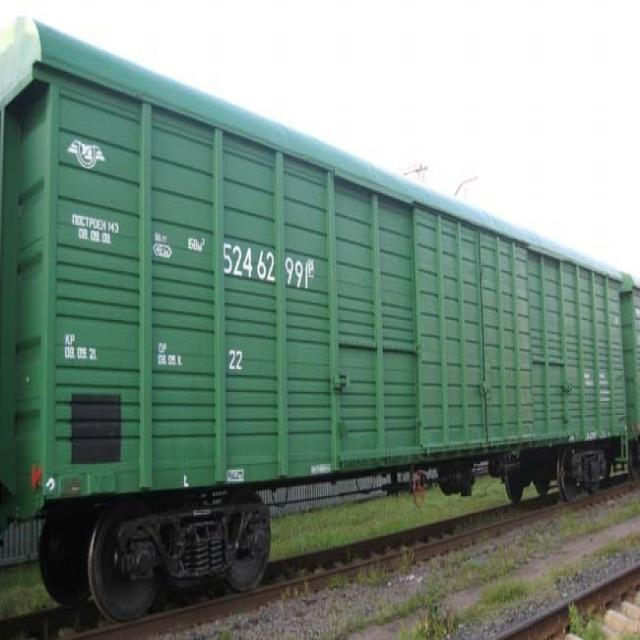boxcar: (0, 0, 627, 634)
